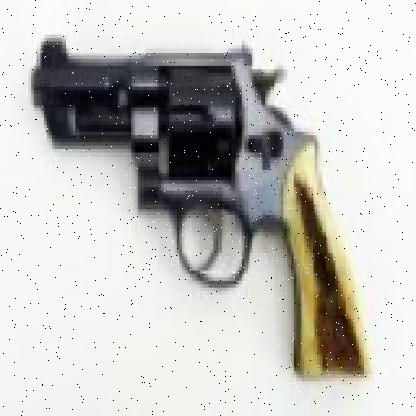pistol: (39, 31, 367, 378)
